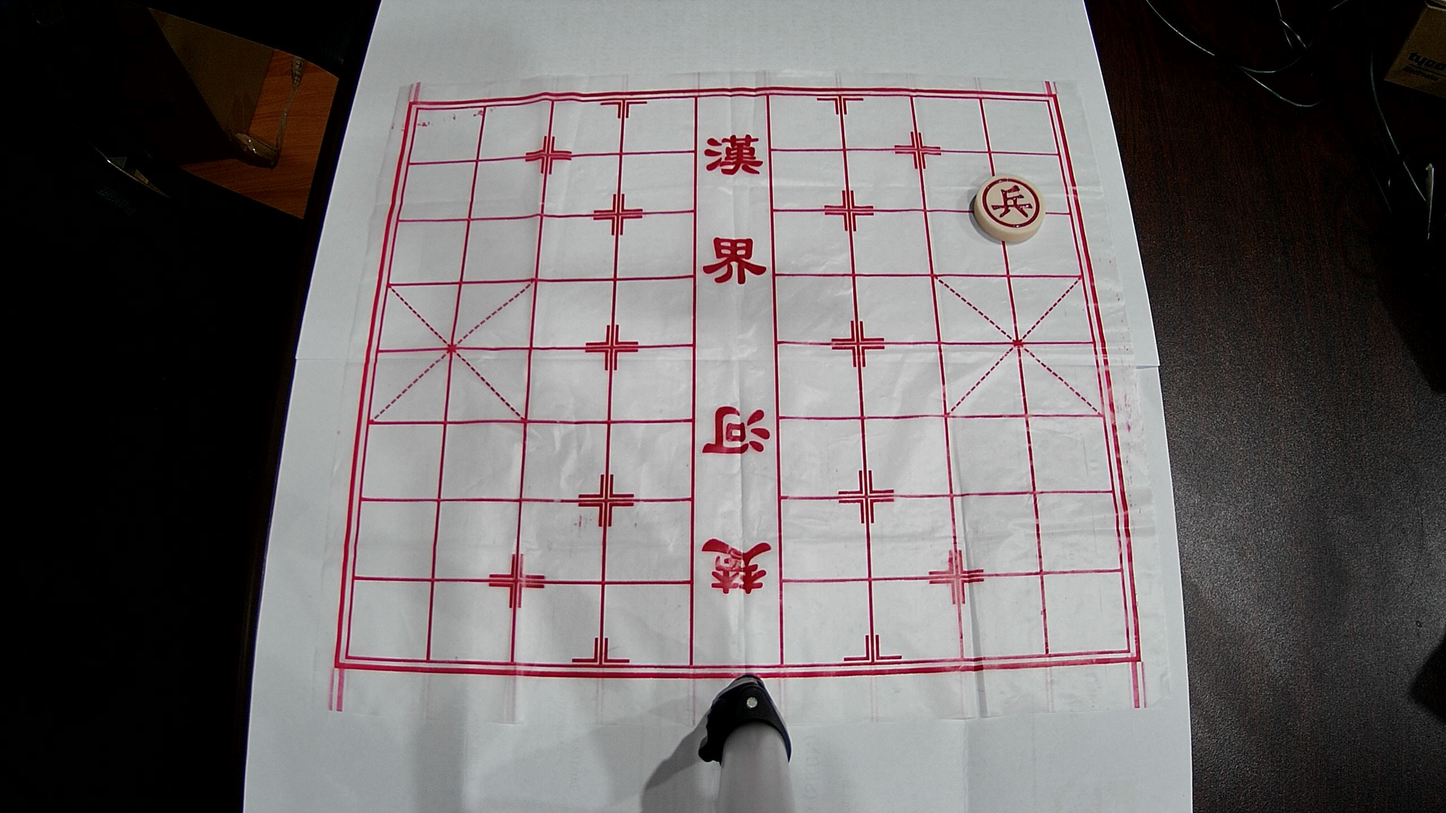Red-Soldier: (974, 174, 1046, 242)
